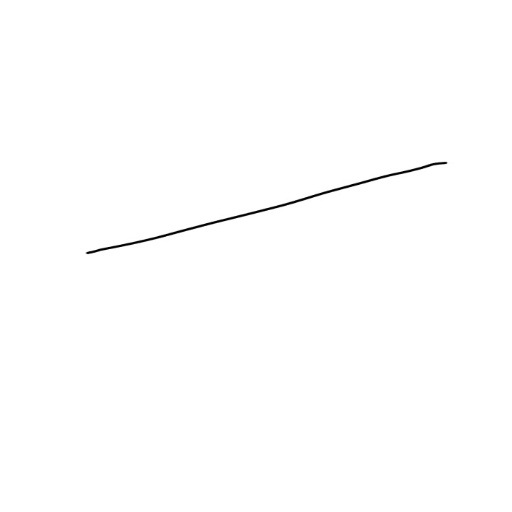line: (71, 157, 457, 267)
